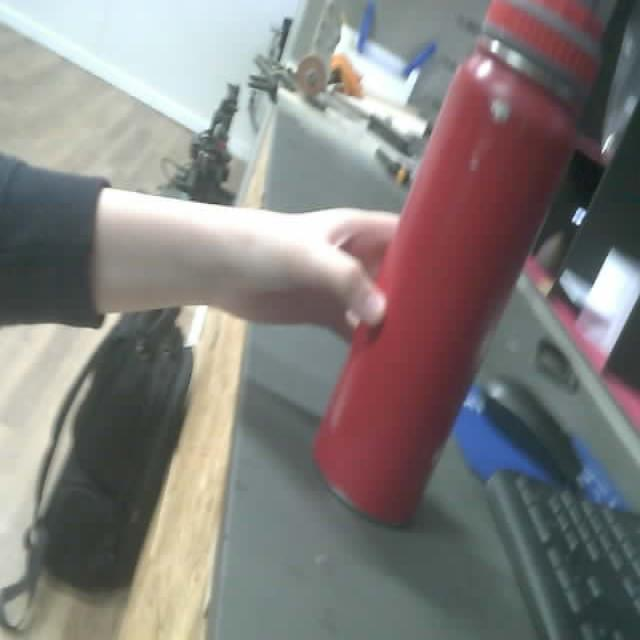water bottle: (313, 3, 608, 528)
